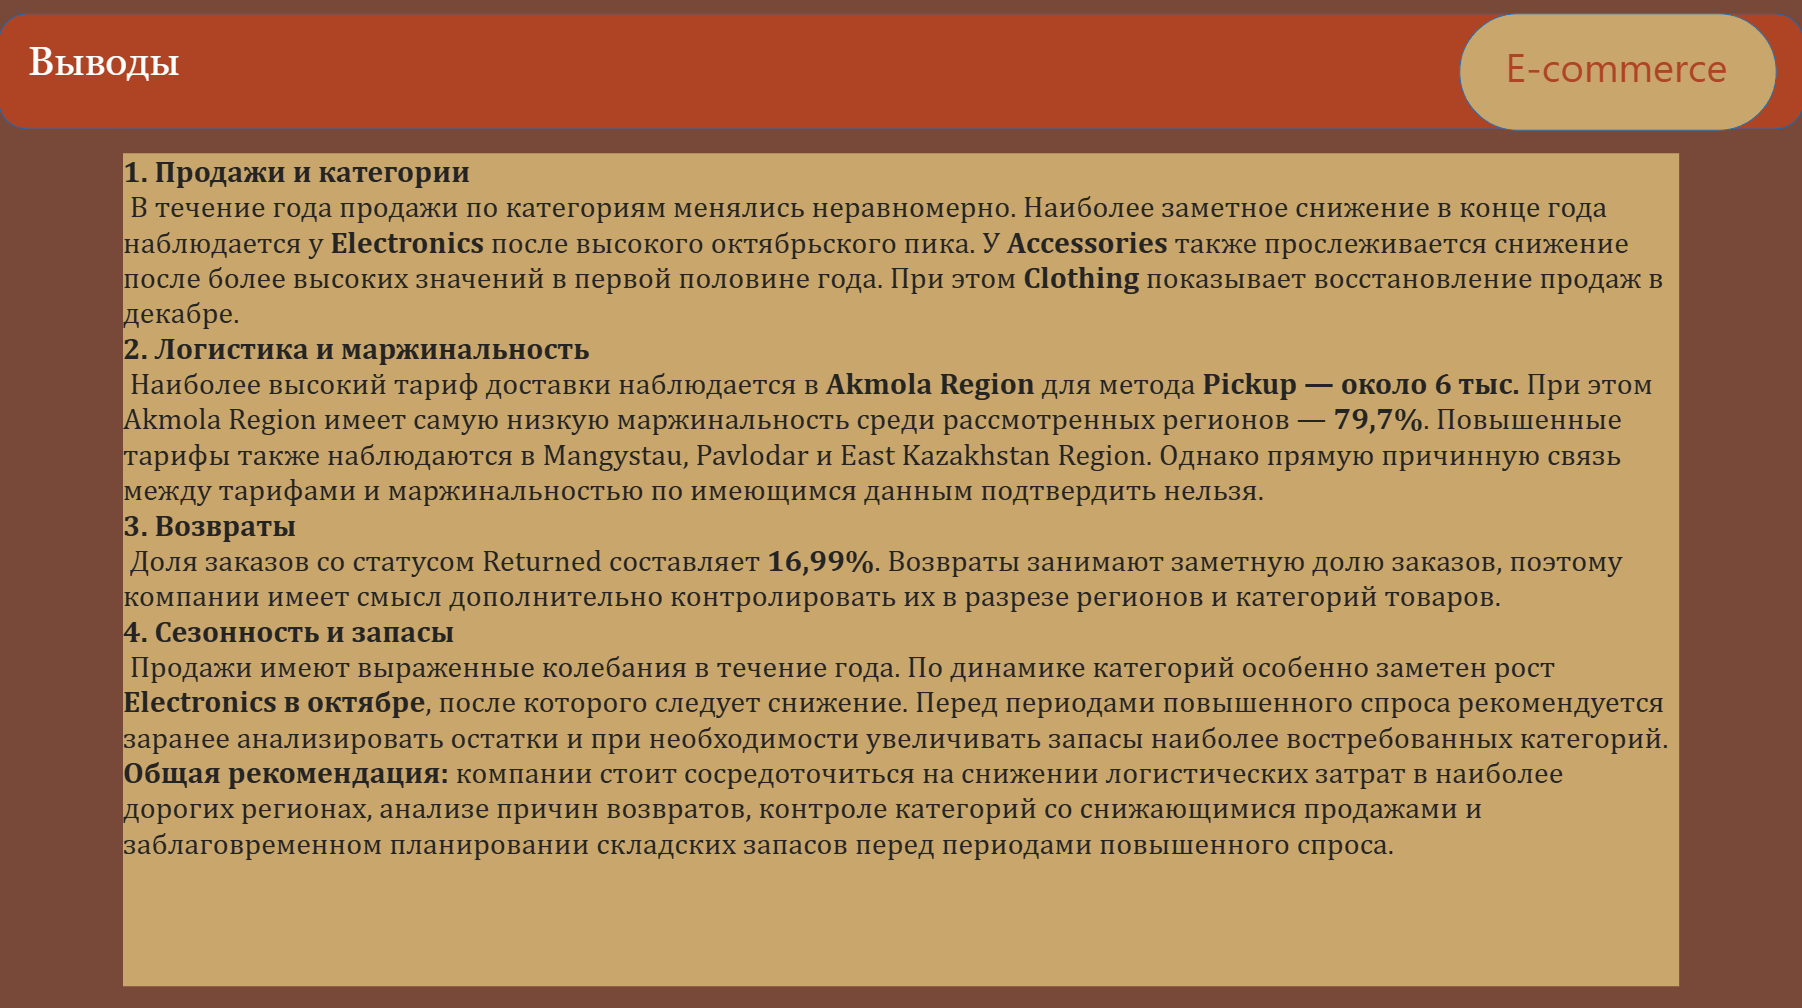

The dashboard page shown, as its layout file describes it:
{"tool":"powerbi","page":{"name":"Выводы","canvas":[1920,1080],"ordinal":4},"visuals":[{"type":"shape","box":[0,17.3,1920.3,123.6],"z":0},{"type":"textbox","box":[31.9,43.9,498.3,81.1],"z":1000},{"type":"shape","box":[1553.5,17.3,337.5,124.9],"z":2000},{"type":"textbox","box":[1602.7,43.9,245.8,71.8],"z":3000},{"type":"textbox","box":[132.4,166.5,1654.1,885.8],"z":3001}]}

Visuals, with their boxes in screenshot pixels (x1, y1, x2, y2), scaled from the page's 1920x1080 canvas onto the 1802x1008 screenshot:
shape: <bbox>0, 16, 1801, 132</bbox>
textbox: <bbox>30, 41, 498, 117</bbox>
shape: <bbox>1458, 16, 1775, 133</bbox>
textbox: <bbox>1504, 41, 1735, 108</bbox>
textbox: <bbox>124, 155, 1677, 982</bbox>
